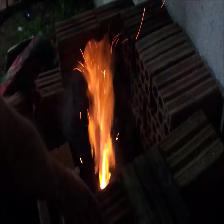fire: (70, 26, 143, 206)
